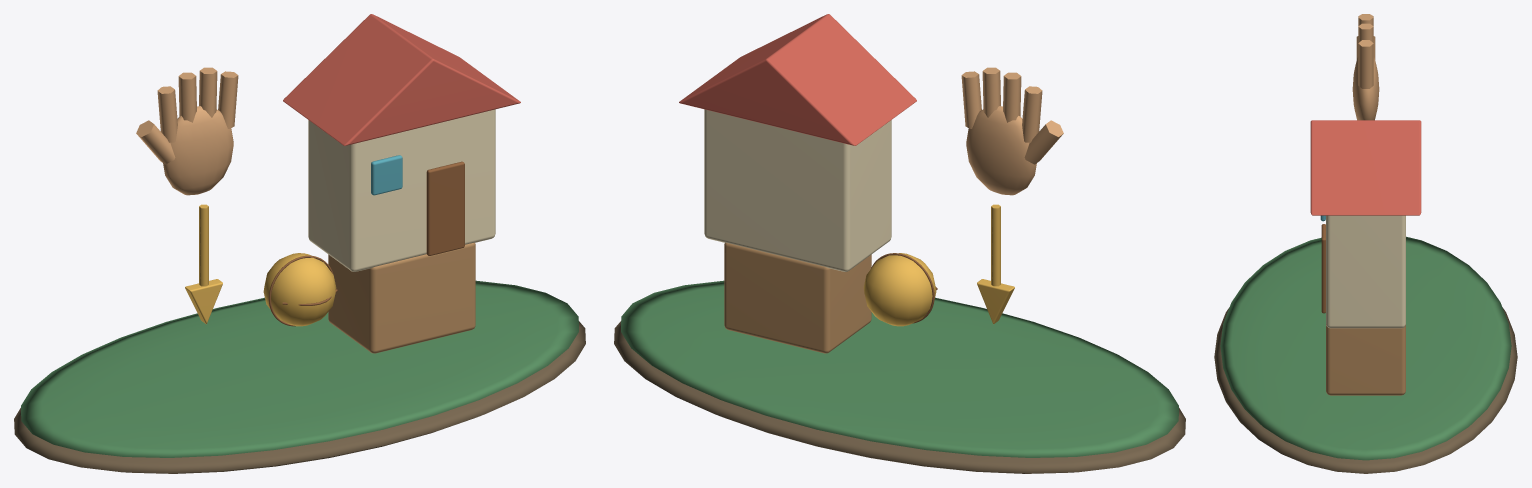
Rendered from complete-second-hand-high-drop.glb.
3 renders of one model, left to right at view 1: azimuth 30°, elevation 25°; view 2: azimuth 150°, elevation 25°; view 3: azimuth 270°, elevation 25°, orthographic. The views are drawn at different scales.
Parts seen in each view (by area): view 1: complete-second-hand-high-drop_surface_01, complete-second-hand-high-drop_surface_03, complete-second-hand-high-drop_surface_04, complete-second-hand-high-drop_surface_07, complete-second-hand-high-drop_surface_00, complete-second-hand-high-drop_surface_02, complete-second-hand-high-drop_surface_08, complete-second-hand-high-drop_surface_05, complete-second-hand-high-drop_surface_06; view 2: complete-second-hand-high-drop_surface_01, complete-second-hand-high-drop_surface_03, complete-second-hand-high-drop_surface_04, complete-second-hand-high-drop_surface_07, complete-second-hand-high-drop_surface_00, complete-second-hand-high-drop_surface_02, complete-second-hand-high-drop_surface_08; view 3: complete-second-hand-high-drop_surface_01, complete-second-hand-high-drop_surface_04, complete-second-hand-high-drop_surface_03, complete-second-hand-high-drop_surface_00, complete-second-hand-high-drop_surface_07, complete-second-hand-high-drop_surface_02, complete-second-hand-high-drop_surface_05.
Part boxes in pixels (x1,y1,x2,y2): complete-second-hand-high-drop_surface_01: (21,280,578,457); complete-second-hand-high-drop_surface_03: (308,109,495,271); complete-second-hand-high-drop_surface_04: (283,14,520,145); complete-second-hand-high-drop_surface_07: (328,242,475,353); complete-second-hand-high-drop_surface_00: (14,321,585,473); complete-second-hand-high-drop_surface_02: (136,67,238,195); complete-second-hand-high-drop_surface_08: (185,204,336,326); complete-second-hand-high-drop_surface_05: (268,161,464,326); complete-second-hand-high-drop_surface_06: (371,155,402,195); complete-second-hand-high-drop_surface_01: (621,280,1178,457); complete-second-hand-high-drop_surface_03: (704,109,891,271); complete-second-hand-high-drop_surface_04: (679,14,916,145); complete-second-hand-high-drop_surface_07: (724,242,871,353); complete-second-hand-high-drop_surface_00: (614,321,1185,473); complete-second-hand-high-drop_surface_02: (961,67,1063,195); complete-second-hand-high-drop_surface_08: (863,204,1014,326); complete-second-hand-high-drop_surface_01: (1220,236,1511,460); complete-second-hand-high-drop_surface_04: (1310,120,1421,215); complete-second-hand-high-drop_surface_03: (1326,215,1405,328); complete-second-hand-high-drop_surface_00: (1214,307,1517,473); complete-second-hand-high-drop_surface_07: (1326,324,1405,395); complete-second-hand-high-drop_surface_02: (1352,14,1379,120); complete-second-hand-high-drop_surface_05: (1321,224,1325,313).
Bounding box in the file's own units: 4.56 × 2.78 × 2.5.
